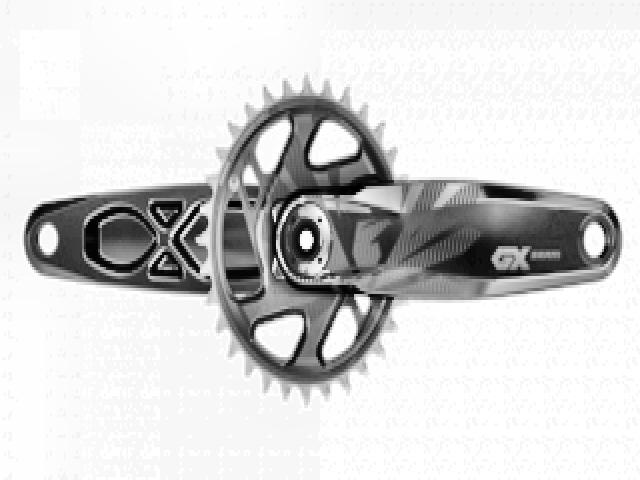cranks_set: (200, 69, 624, 402)
